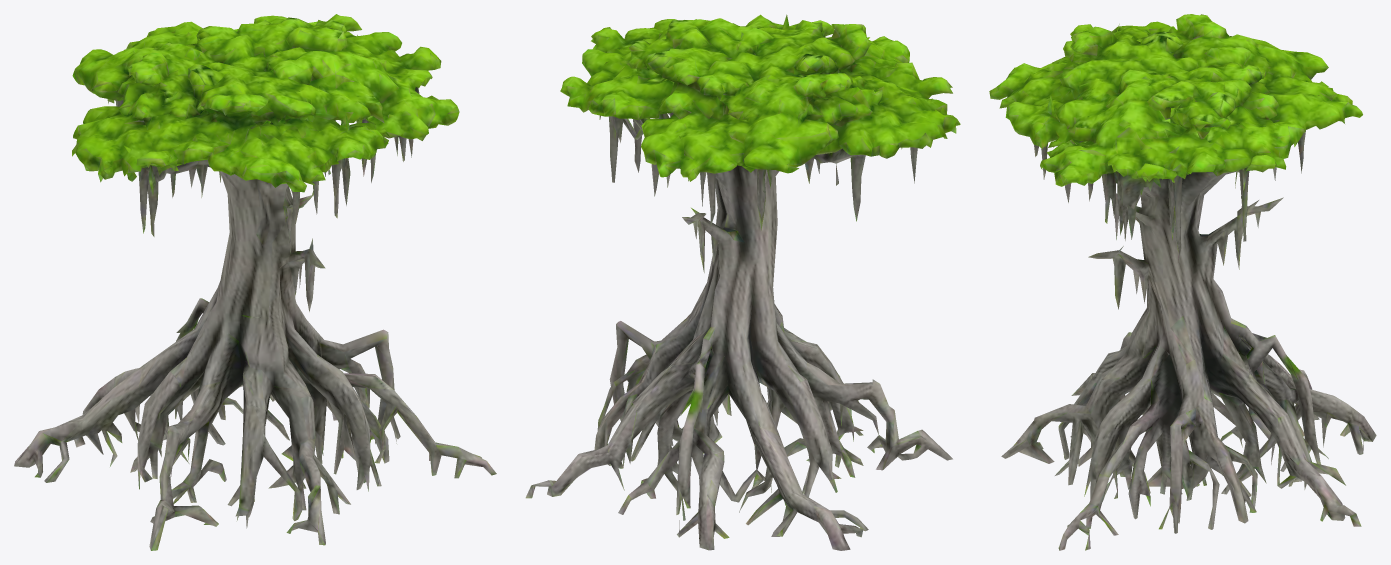
The model's file is mangrove.glb.
3 views of the same model, side by side, from view 1: azimuth 30°, elevation 25°; view 2: azimuth 150°, elevation 25°; view 3: azimuth 270°, elevation 25° (orthographic). The views are drawn at different scales.
Visible parts, largest first — view 1: Mesh1.0; view 2: Mesh1.0; view 3: Mesh1.0.
Boxes of the visible parts, <box> form: Mesh1.0: <box>14,14,496,550</box>; Mesh1.0: <box>525,14,960,550</box>; Mesh1.0: <box>989,14,1376,550</box>.
Size of the model in its own units: 1.8 by 2 by 1.72.
1 material, 1 textured.
